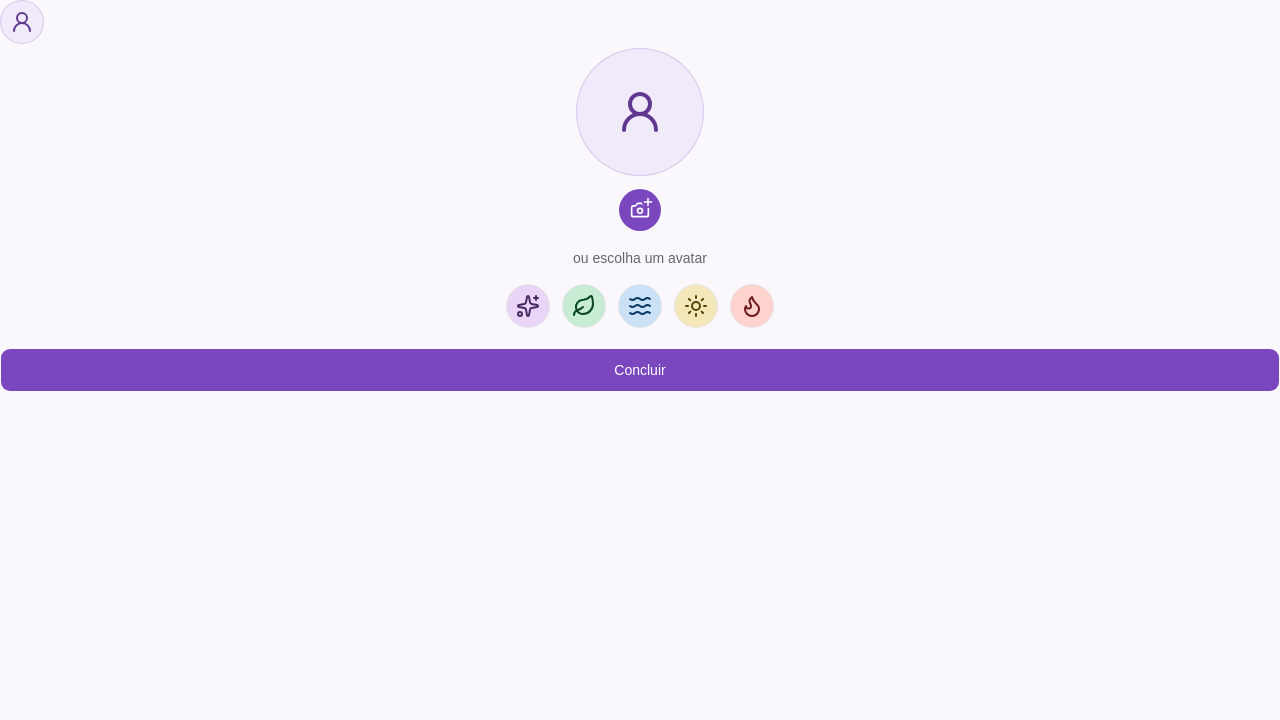
Test: removes the personal avatar only after confirming, and allows canceling
Later steps or results of the test are not shown.
Click the button named "Sol": (696, 306) [674,284,718,328]
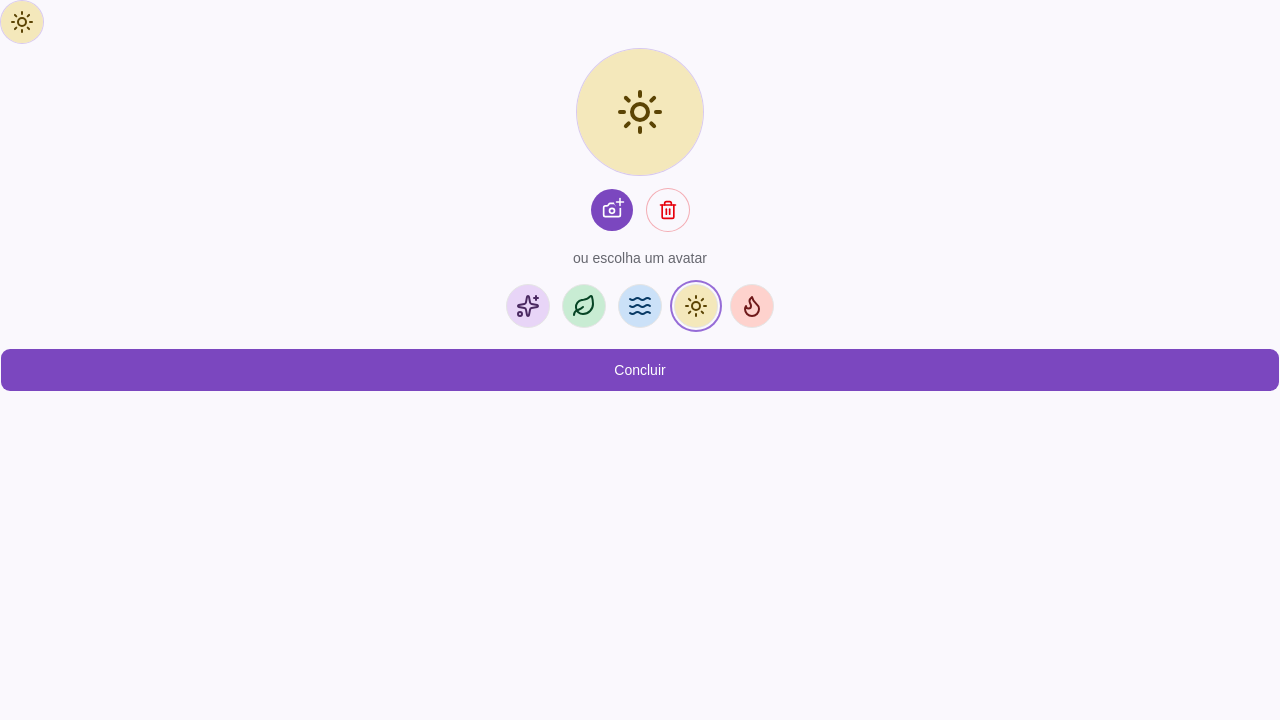
Click the button named "Excluir foto de perfil": (668, 210) [646,188,690,232]
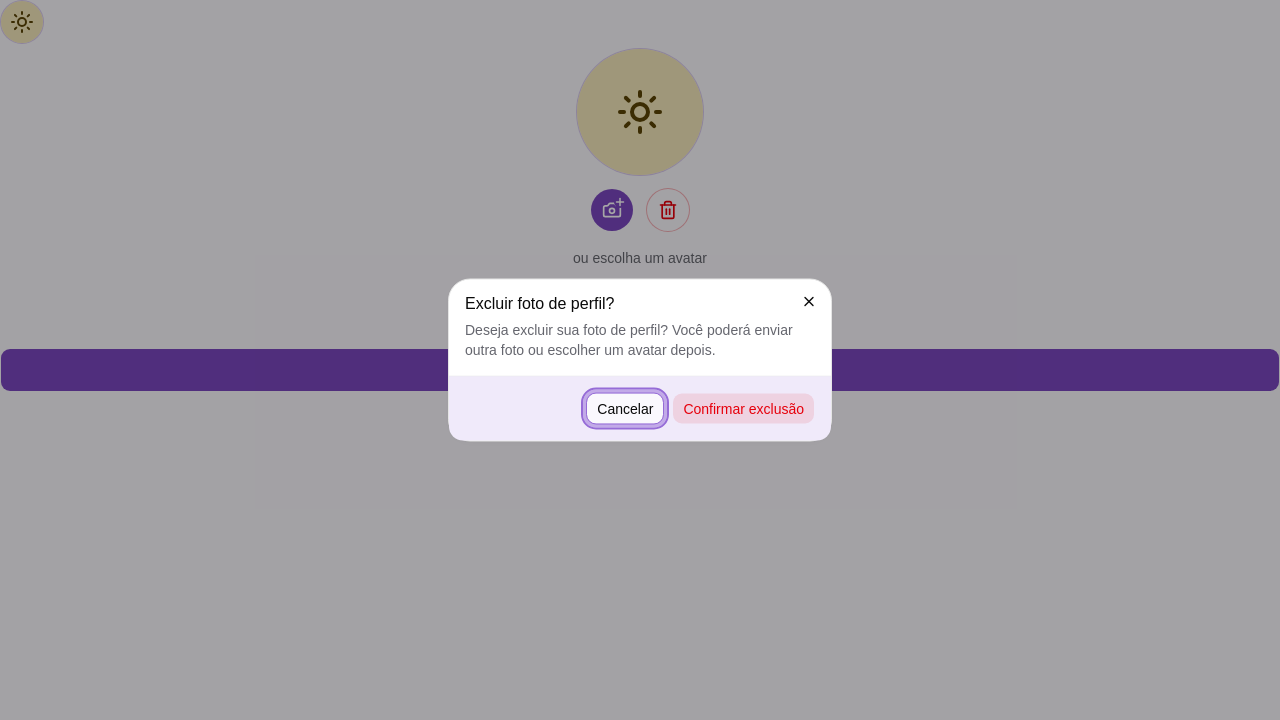
Expected: the dialog "Excluir foto de perfil?" is shown, [448,278,832,442]
Expected: the text "Você poderá enviar outra foto ou escolher um avatar depois" is shown, [465,322,793,358]
